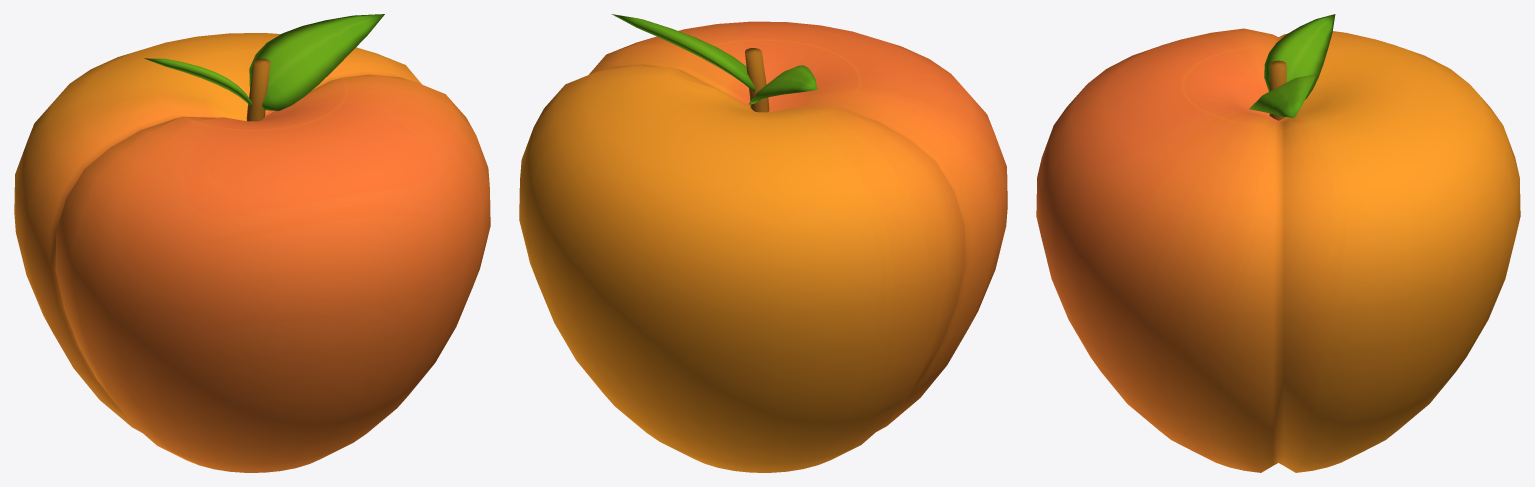
File: Peach.fbx
The picture shows the model from 3 angles, left to right: view 1: azimuth 30°, elevation 25°; view 2: azimuth 150°, elevation 25°; view 3: azimuth 270°, elevation 25°; orthographic projection. The views are drawn at different scales.
Visible parts, largest first — view 1: PeachMain_Export, Leaf.001_Export, Rootlet.001_Export, Leaf_Export; view 2: PeachMain_Export, Leaf.001_Export, Leaf_Export, Rootlet.001_Export; view 3: PeachMain_Export, Leaf_Export, Leaf.001_Export, Rootlet.001_Export.
Part boxes in pixels (x1,y1,x2,y2): PeachMain_Export: (14, 33, 490, 472); Leaf.001_Export: (249, 14, 384, 110); Rootlet.001_Export: (246, 58, 270, 121); Leaf_Export: (144, 58, 252, 107); PeachMain_Export: (519, 21, 1007, 472); Leaf.001_Export: (611, 14, 754, 92); Leaf_Export: (748, 65, 817, 104); Rootlet.001_Export: (745, 48, 769, 112); PeachMain_Export: (1036, 28, 1520, 472); Leaf_Export: (1264, 14, 1335, 99); Leaf.001_Export: (1249, 74, 1315, 118); Rootlet.001_Export: (1269, 60, 1286, 120).
Size of the model in its own units: 16.35 by 15.47 by 16.67.
